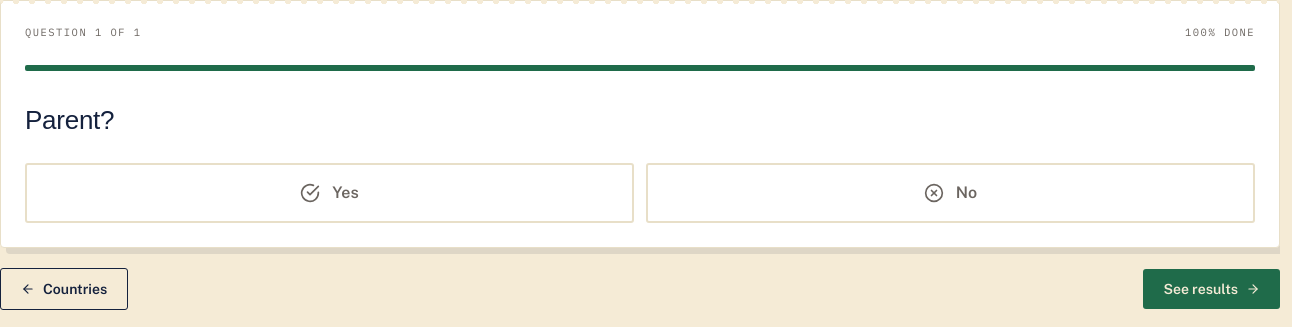
Scenario: CountryChecker — Phase 5B: show_if visibility › updates question count when show_if reveals a question
Expected: the text "Question 1 of 1" is shown, [25,25,142,41]
# Answer Yes → child appears, total becomes 2
Step 1. Click the button "Yes" → (330, 192), box [25,162,634,222]
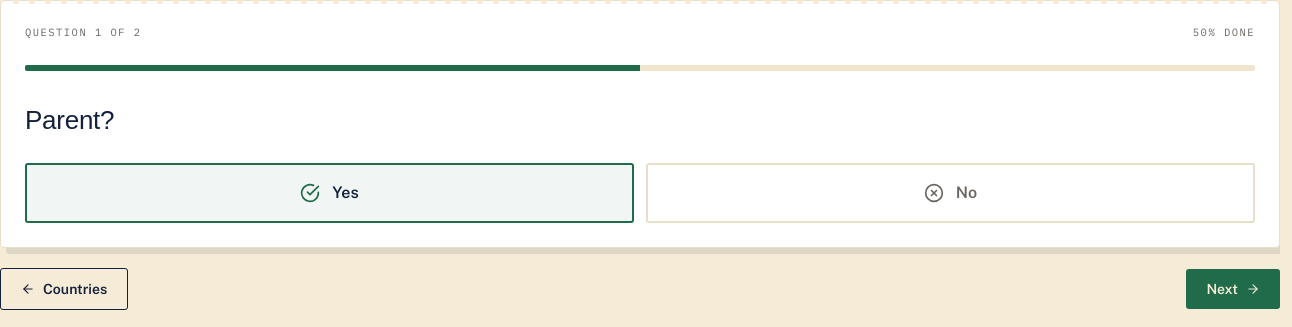
Now the text "Question 1 of 2" is shown, box [25,25,142,41]
